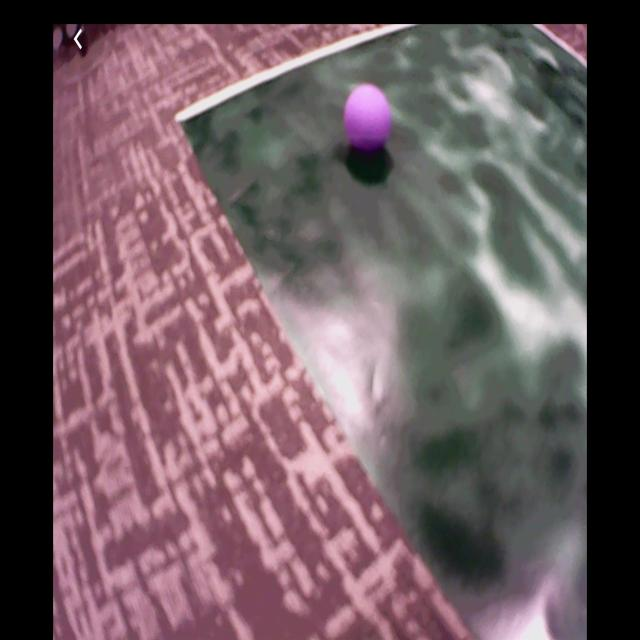ball: (343, 86, 392, 162)
